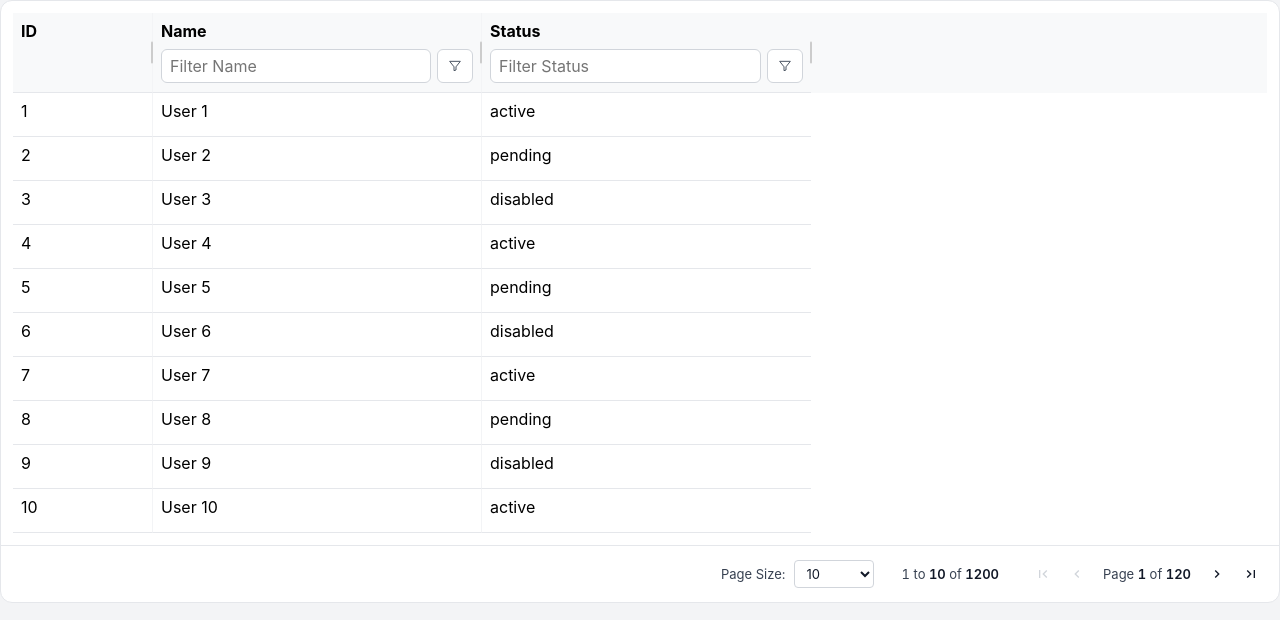
Test: DataGrid › loads rows and supports pagination
Expected: the button "User 1" is shown, [161,101,208,121]
Click the button named "Next page": (1217, 574) [1201,558,1233,590]
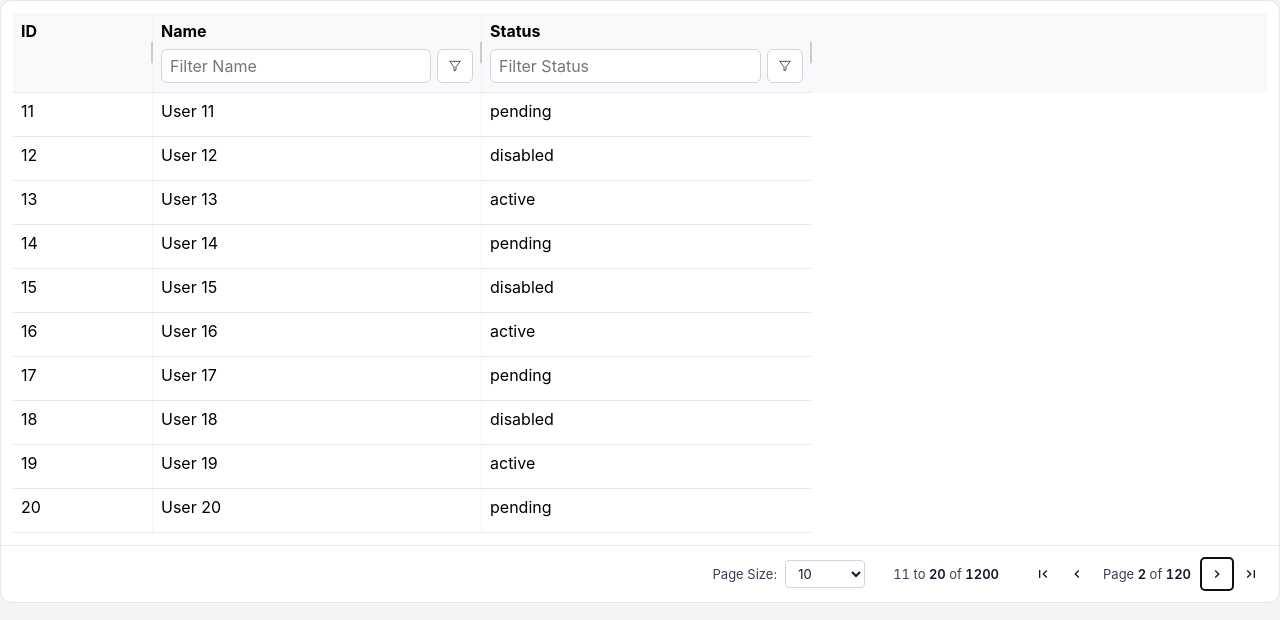
Now the button "User 11" is shown, box [161,101,214,121]
